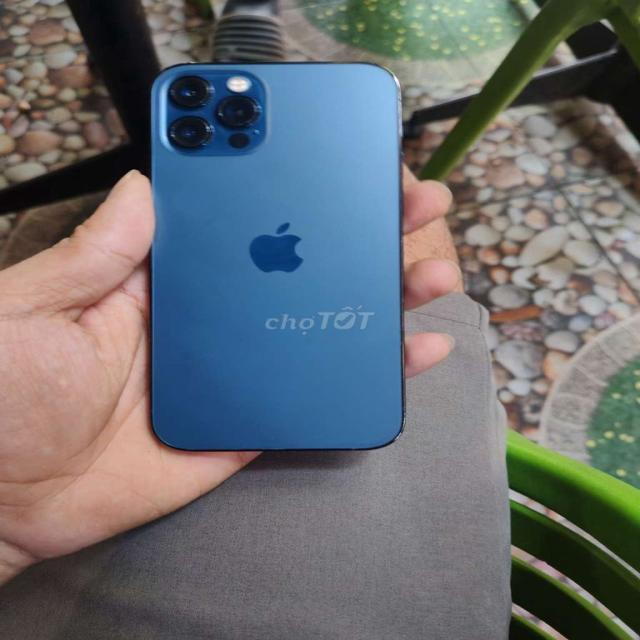gen_12_13: (145, 61, 404, 456)
